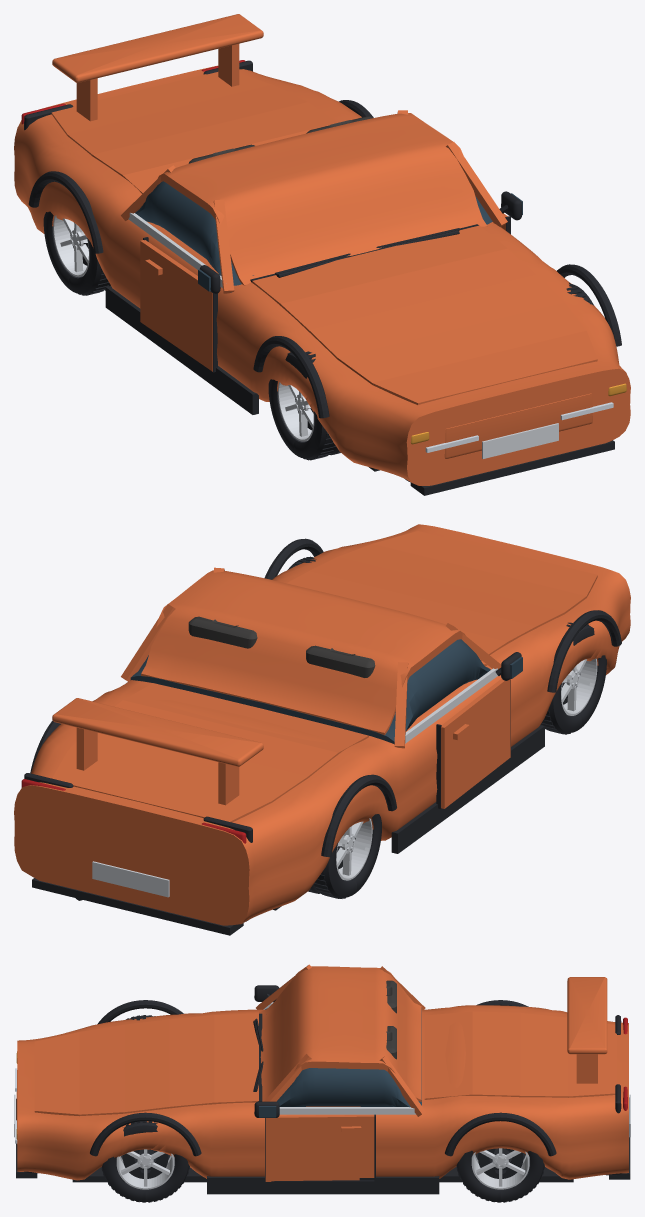
The model's file is SportsCarHD.fbx.
3 renders of one model, top to bottom at view 1: azimuth 30°, elevation 25°; view 2: azimuth 150°, elevation 25°; view 3: azimuth 270°, elevation 25°, orthographic. The views are drawn at different scales.
Parts seen in each view (by area): view 1: body_sports-car_0, body_bonnet.001, body_boot.001, trim_sports-car_1, body_door-front-left.001, glass_sports-car_2, rim_sports-car_6, trim_wheel-front-left_trim, trim_wheel-rear-left_trim, rim_wheel-rear-left_alloy, rim_wheel-front-left_alloy, lightwhite_sports-car_4; view 2: body_sports-car_0, body_bonnet.001, body_boot.001, trim_sports-car_1, body_door-front-left.001, glass_sports-car_2, interior_sports-car_3, rim_sports-car_6, trim_wheel-front-left_trim, trim_wheel-rear-left_trim, rim_wheel-rear-left_alloy, rim_wheel-front-left_alloy; view 3: body_sports-car_0, body_bonnet.001, body_boot.001, trim_sports-car_1, body_door-front-right.001, glass_sports-car_2, trim_wheel-front-right_trim, trim_wheel-rear-right_trim, rim_wheel-rear-right_alloy, rim_wheel-front-right_alloy, rim_sports-car_6, interior_sports-car_3.
Part boxes in pixels (left/top/right/bottom): body_sports-car_0: left=14, top=14, right=630, bottom=485; body_bonnet.001: left=252, top=225, right=597, bottom=404; body_boot.001: left=51, top=72, right=337, bottom=193; trim_sports-car_1: left=24, top=60, right=621, bottom=495; body_door-front-left.001: left=140, top=240, right=212, bottom=371; glass_sports-car_2: left=135, top=181, right=522, bottom=292; rim_sports-car_6: left=128, top=213, right=558, bottom=458; trim_wheel-front-left_trim: left=268, top=351, right=340, bottom=460; trim_wheel-rear-left_trim: left=43, top=211, right=110, bottom=295; rim_wheel-rear-left_alloy: left=53, top=215, right=89, bottom=277; rim_wheel-front-left_alloy: left=278, top=382, right=314, bottom=441; lightwhite_sports-car_4: left=425, top=402, right=613, bottom=452; body_sports-car_0: left=14, top=524, right=630, bottom=925; body_bonnet.001: left=286, top=531, right=597, bottom=660; body_boot.001: left=52, top=683, right=368, bottom=822; trim_sports-car_1: left=24, top=538, right=621, bottom=935; body_door-front-left.001: left=441, top=678, right=510, bottom=808; glass_sports-car_2: left=130, top=639, right=522, bottom=744; interior_sports-car_3: left=188, top=616, right=375, bottom=677; rim_sports-car_6: left=92, top=668, right=497, bottom=897; trim_wheel-front-left_trim: left=540, top=622, right=606, bottom=734; trim_wheel-rear-left_trim: left=308, top=814, right=381, bottom=898; rim_wheel-rear-left_alloy: left=336, top=818, right=372, bottom=880; rim_wheel-front-left_alloy: left=561, top=658, right=597, bottom=715; body_sports-car_0: left=16, top=964, right=628, bottom=1180; body_bonnet.001: left=34, top=1013, right=258, bottom=1116; body_boot.001: left=424, top=1011, right=616, bottom=1099; trim_sports-car_1: left=16, top=985, right=630, bottom=1194; body_door-front-right.001: left=265, top=1115, right=374, bottom=1181; glass_sports-car_2: left=259, top=1007, right=421, bottom=1117; trim_wheel-front-right_trim: left=101, top=1121, right=189, bottom=1202; trim_wheel-rear-right_trim: left=456, top=1148, right=544, bottom=1202; rim_wheel-rear-right_alloy: left=471, top=1148, right=529, bottom=1189; rim_wheel-front-right_alloy: left=116, top=1149, right=174, bottom=1189; rim_sports-car_6: left=14, top=1002, right=630, bottom=1137; interior_sports-car_3: left=386, top=980, right=396, bottom=1059.
Size of the model in its own units: 210 by 118 by 453.
